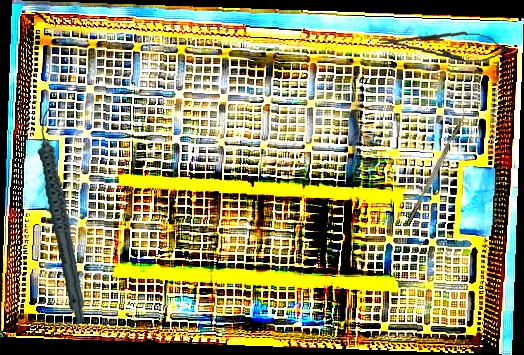Chopper: (401, 105, 471, 225)
Handpiece: (28, 106, 96, 326)
Needle Holder: (379, 25, 508, 65)
